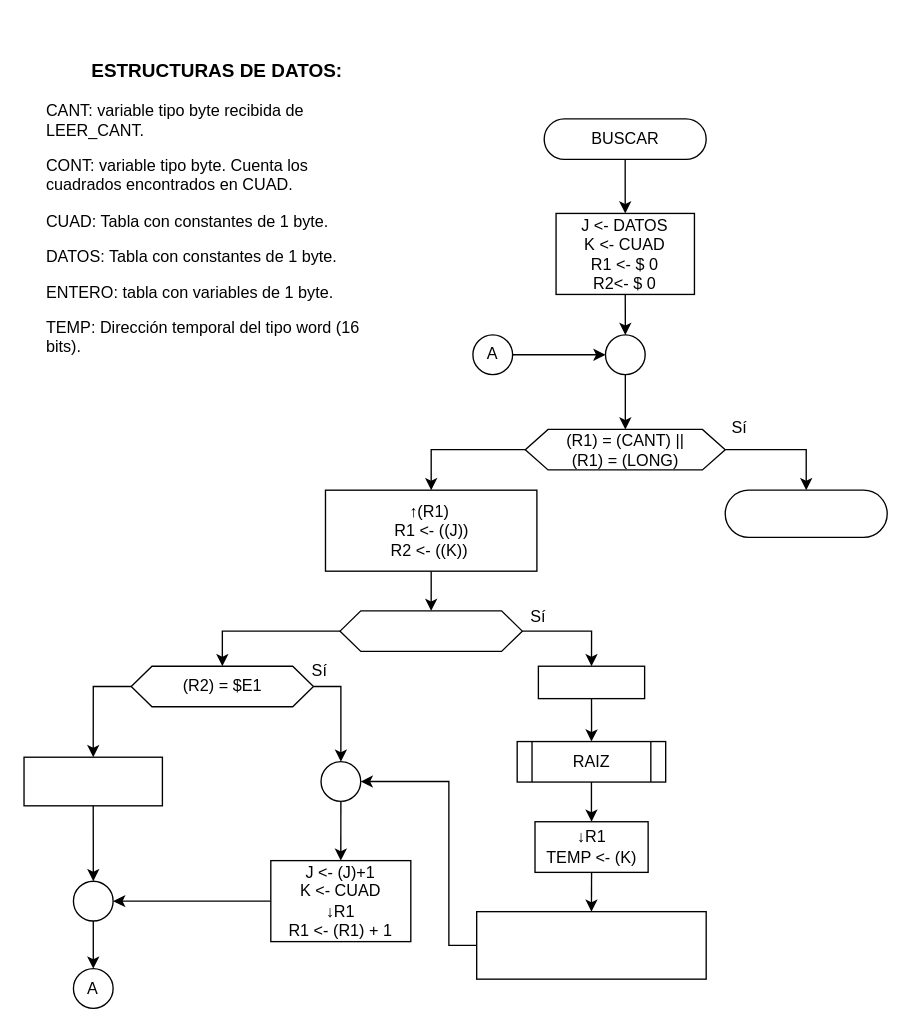
This 911x1031 diagram has some shape labels left out. Here are the shapes that lost their labels. From the top down, the box of each, then its label:
(724, 489, 887, 537): REGRESA
(339, 610, 522, 651): (R1) = (R2)
(537, 665, 645, 699): ↑(R1)
(23, 756, 162, 806): K <- (K) +1 ↓R1
(475, 910, 706, 979): K <- ENTEROS ( (K) + (CONT) ) <- (R1) CONT <- (CONT) + 1
